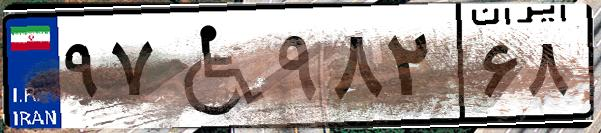2: (385, 28, 445, 110)
6: (475, 38, 525, 113)
7: (110, 28, 158, 98)
8: (330, 28, 385, 110), (525, 38, 570, 115)
9: (270, 28, 330, 110), (57, 26, 110, 100)
ژ (معلولین و جانبازان): (158, 12, 270, 120)
